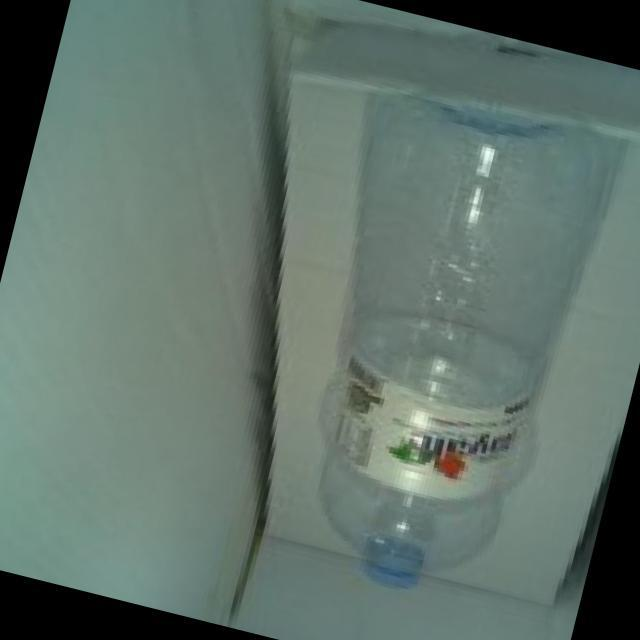good: (237, 47, 632, 639)
